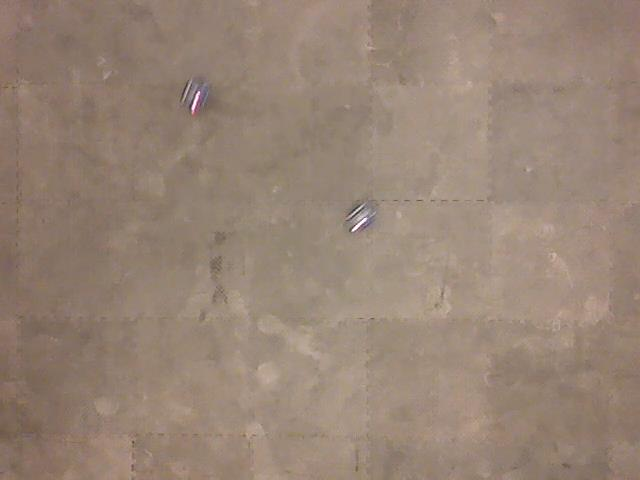Agent: (177, 72, 214, 117), (344, 200, 376, 234)
